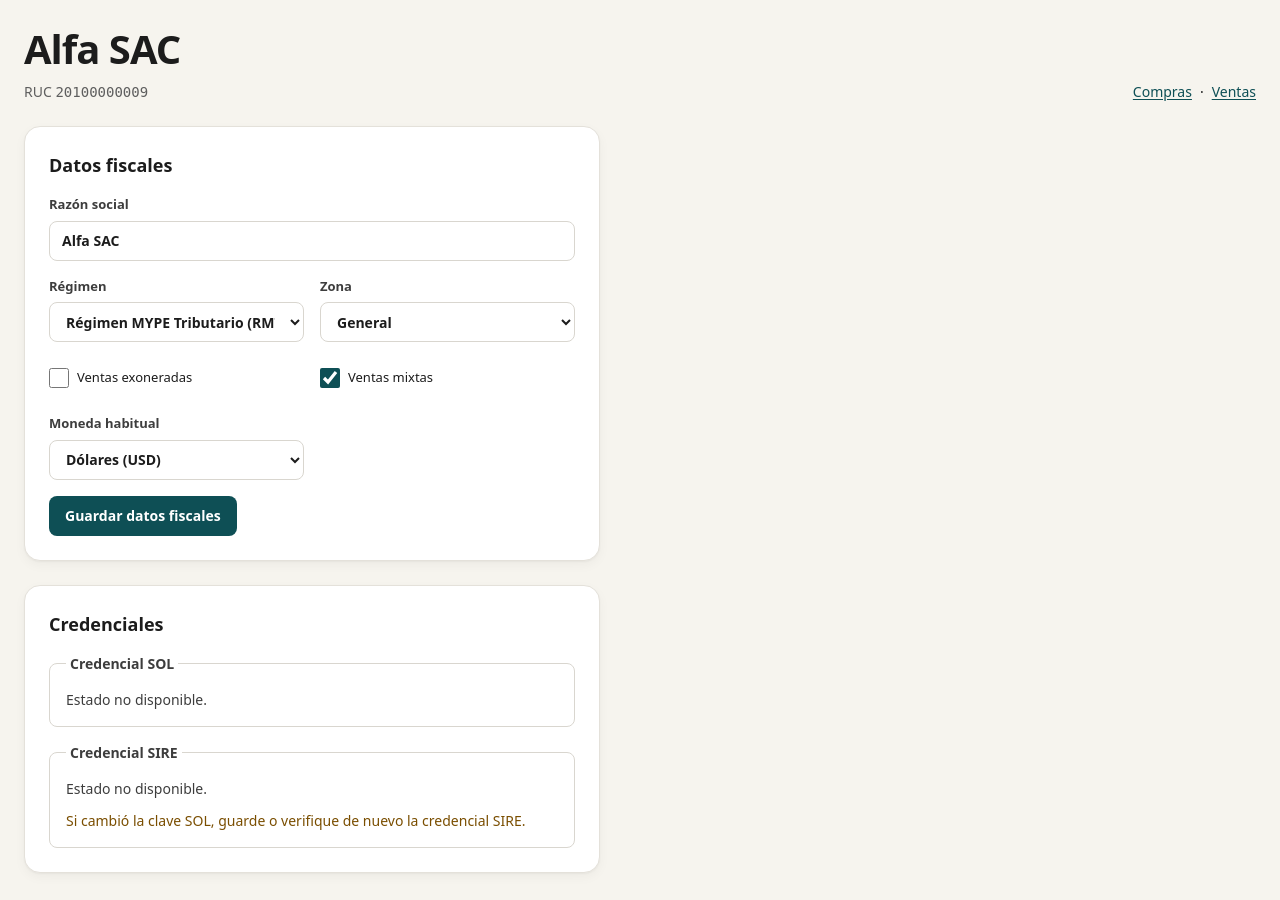
Test: /clientes/:id · datos fiscales y archivado (007a) › PATCH 409 cliente_archivado → mensaje propio
The width and height of the screenshot is (1280, 900).
Click the button "Guardar datos fiscales": (143, 516) [49,496,237,536]
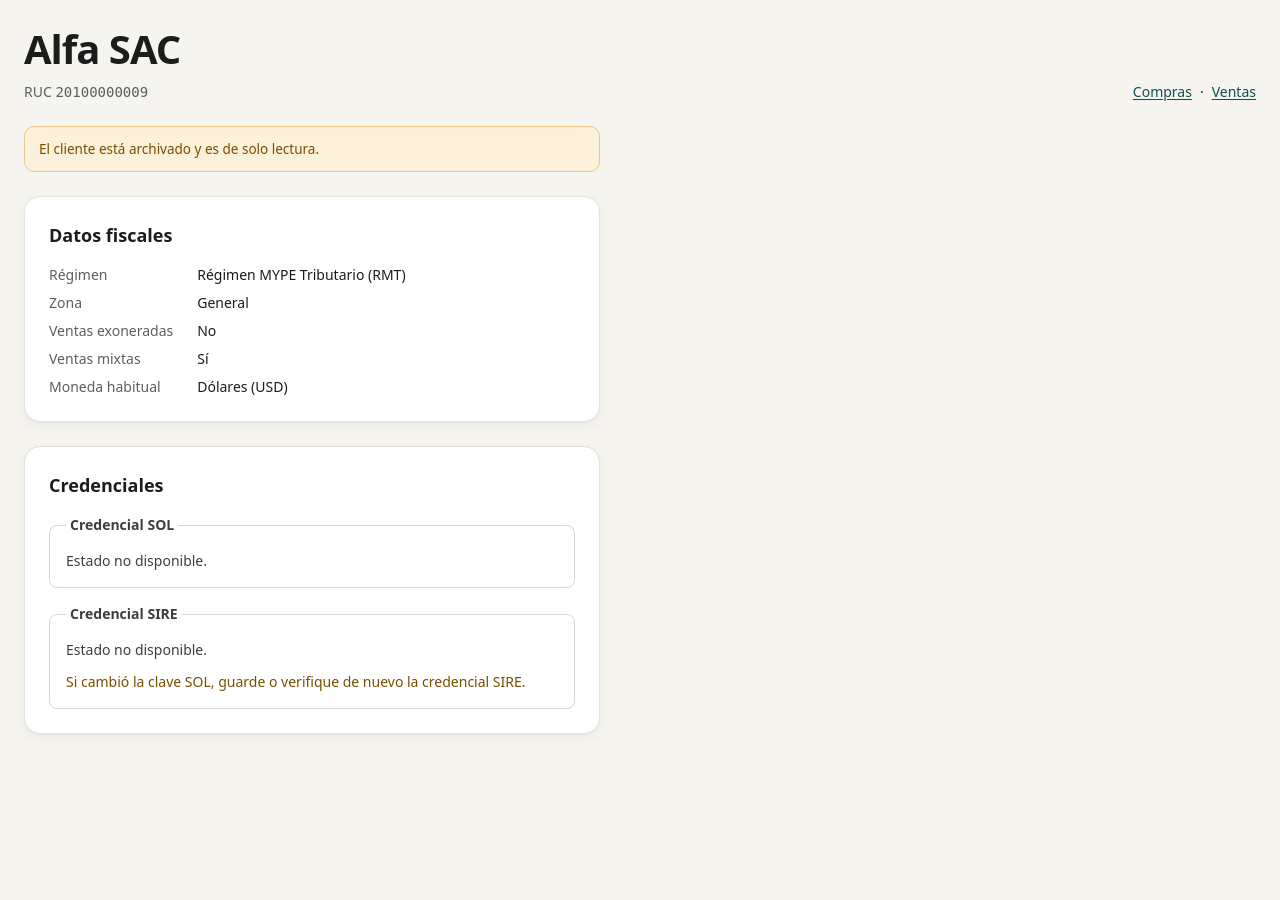
Now the text "El cliente está archivado y es de solo lectura." is shown, box [24,126,600,172]
